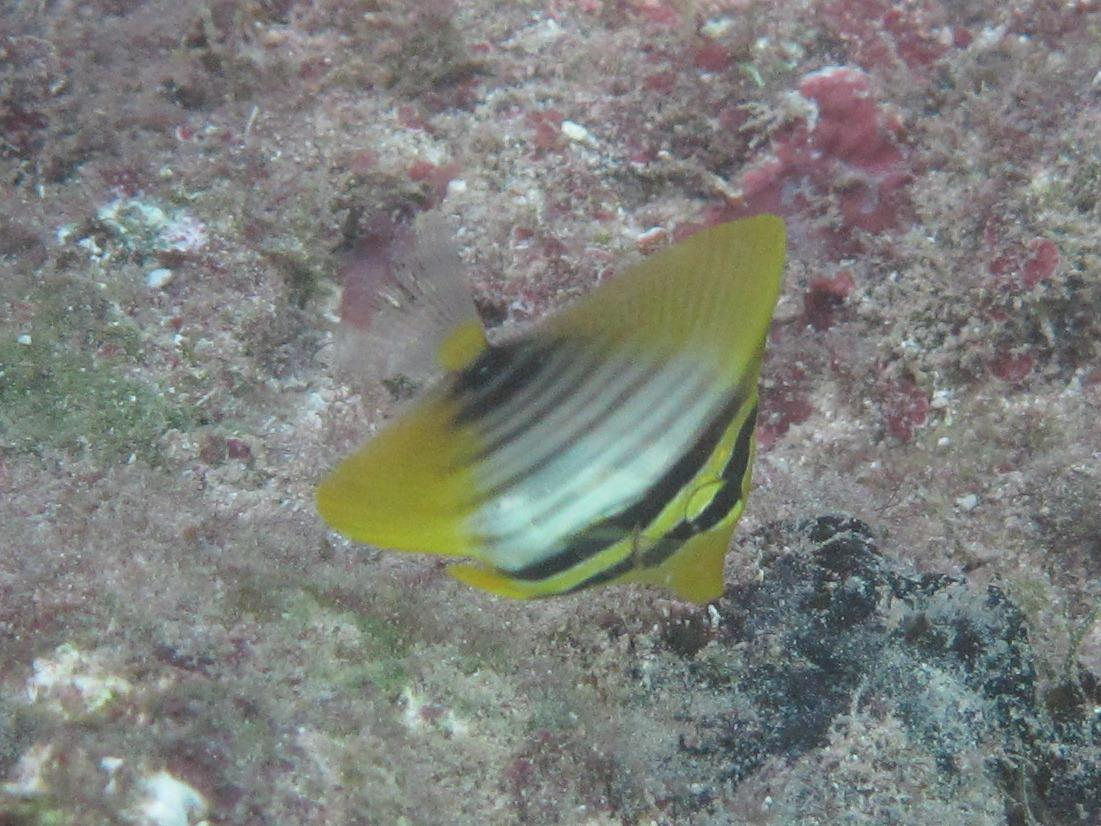Fish: (211, 201, 975, 655)
